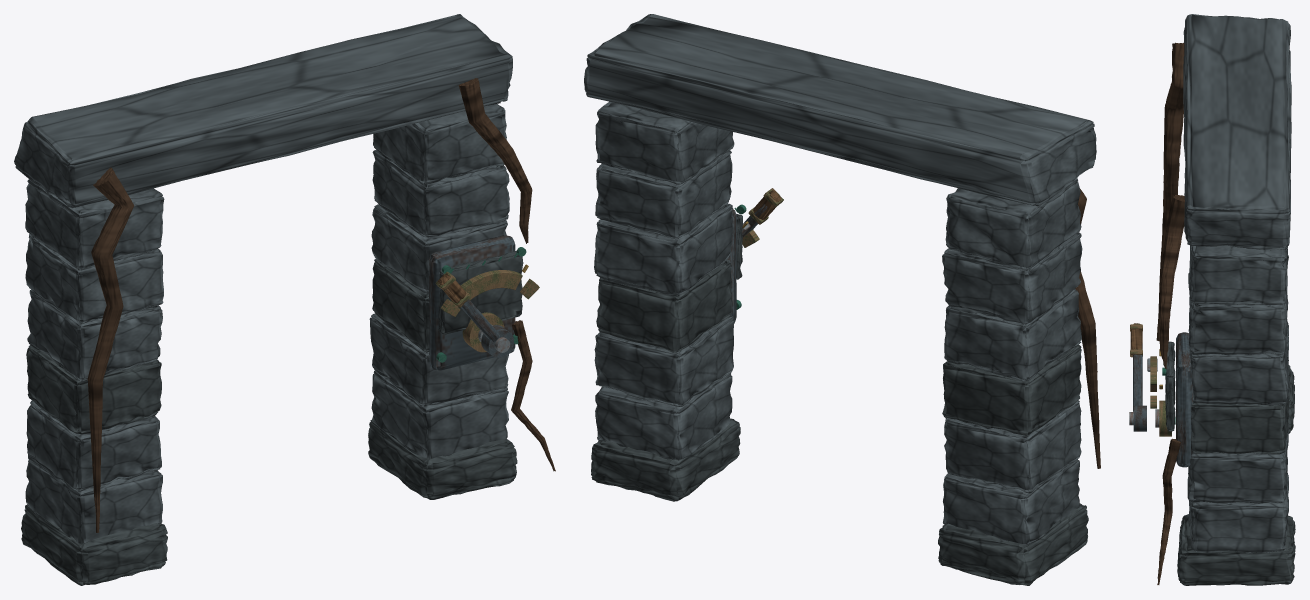
File: double_clearing_latch.glb
The picture shows the model from 3 angles, left to right: view 1: azimuth 30°, elevation 25°; view 2: azimuth 150°, elevation 25°; view 3: azimuth 270°, elevation 25°; orthographic projection. The views are drawn at different scales.
Visible parts, largest first — view 1: Chipped gate lintel, Gate pier right 5, Gate pier right 1, Gate pier left 2, Gate pier left 1, Gate pier left 6, Gate pier left 3, Gate pier left 5, Gate pier left 4, Gate foot left, Gate pier right 6, Gate foot right (+9 smaller); view 2: Chipped gate lintel, Gate pier left 6, Gate pier right 4, Gate pier left 3, Gate pier left 2, Gate pier right 2, Gate pier right 6, Gate pier left 4, Gate pier left 5, Gate pier right 3, Gate pier right 5, Gate pier right 1 (+4 smaller); view 3: Chipped gate lintel, Gate pier right 6, Gate pier right 5, Gate pier right 2, Gate pier right 1, Gate pier right 4, Gate pier right 3, Gate foot right, Left upper root, Root above latch, Iron strike backing, Root across pier toe (+7 smaller).
Boxes of the visible parts, bbox=[...] form: Chipped gate lintel: bbox=[14, 14, 512, 208]; Gate pier right 5: bbox=[372, 150, 509, 237]; Gate pier right 1: bbox=[371, 371, 508, 458]; Gate pier left 2: bbox=[26, 400, 161, 491]; Gate pier left 1: bbox=[25, 457, 162, 543]; Gate pier left 6: bbox=[25, 179, 164, 269]; Gate pier left 3: bbox=[26, 345, 161, 434]; Gate pier left 5: bbox=[25, 234, 163, 323]; Gate pier left 4: bbox=[27, 290, 162, 381]; Gate foot left: bbox=[21, 504, 167, 585]; Gate pier right 6: bbox=[373, 104, 506, 184]; Gate foot right: bbox=[368, 419, 517, 499]; Chipped gate lintel: bbox=[584, 14, 1096, 205]; Gate pier left 6: bbox=[945, 178, 1081, 269]; Gate pier right 4: bbox=[594, 203, 733, 296]; Gate pier left 3: bbox=[942, 344, 1081, 435]; Gate pier left 2: bbox=[944, 400, 1081, 493]; Gate pier right 2: bbox=[594, 315, 733, 406]; Gate pier right 6: bbox=[595, 101, 734, 184]; Gate pier left 4: bbox=[944, 289, 1081, 381]; Gate pier left 5: bbox=[942, 232, 1082, 324]; Gate pier right 3: bbox=[596, 259, 732, 352]; Gate pier right 5: bbox=[595, 150, 732, 239]; Gate pier right 1: bbox=[595, 373, 732, 460]; Chipped gate lintel: bbox=[1183, 14, 1291, 250]; Gate pier right 6: bbox=[1189, 245, 1287, 305]; Gate pier right 5: bbox=[1188, 275, 1287, 354]; Gate pier right 2: bbox=[1187, 424, 1288, 503]; Gate pier right 1: bbox=[1188, 472, 1288, 553]; Gate pier right 4: bbox=[1188, 325, 1288, 405]; Gate pier right 3: bbox=[1191, 397, 1289, 454]; Gate foot right: bbox=[1177, 514, 1295, 585]; Left upper root: bbox=[1156, 42, 1184, 341]; Root above latch: bbox=[1159, 195, 1184, 368]; Iron strike backing: bbox=[1176, 332, 1193, 467]; Root across pier toe: bbox=[1157, 438, 1181, 584].
Size of the model in its own units: 3.24 by 2.81 by 1.1.
Materials: 9 (9 with a texture image).
